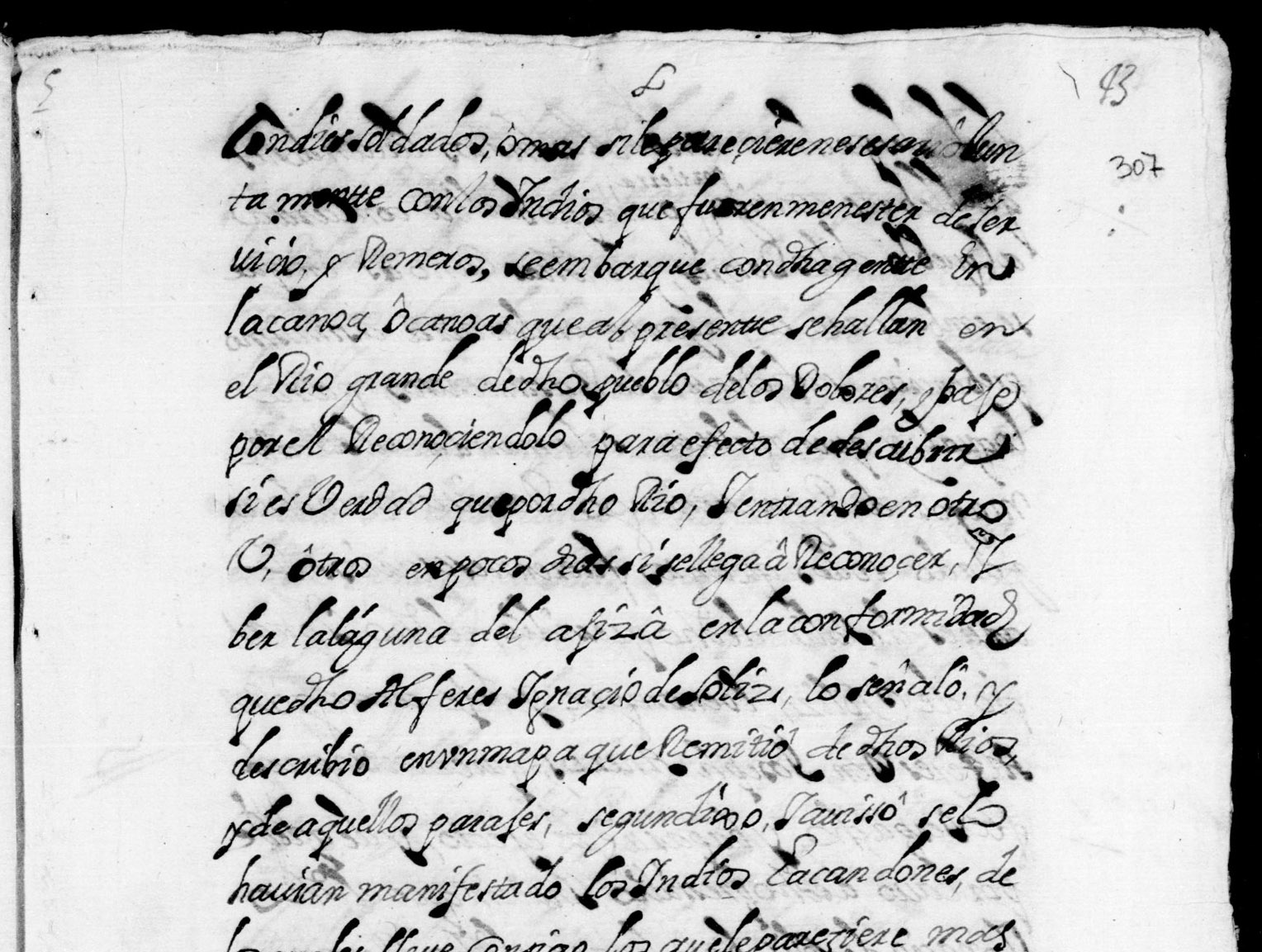lacandon: (766, 829, 969, 886)
